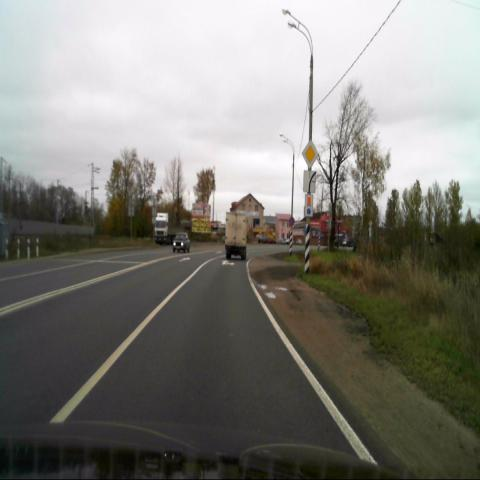2_1: (302, 139, 318, 168)
